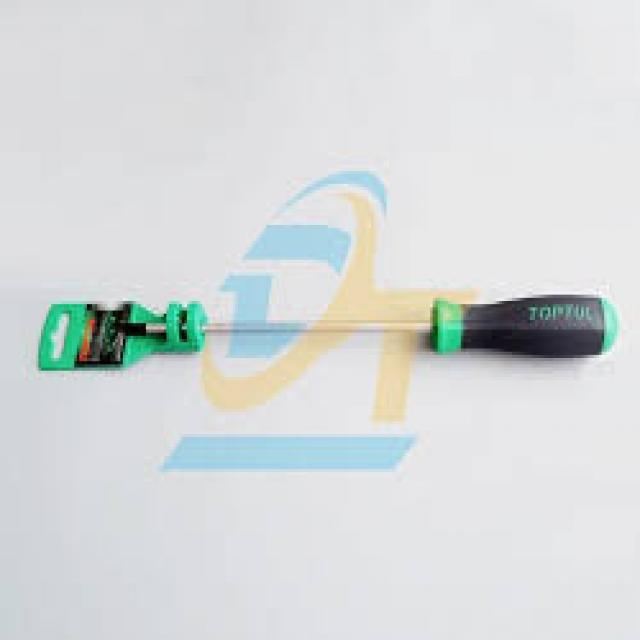screwdriver: (112, 293, 622, 357)
